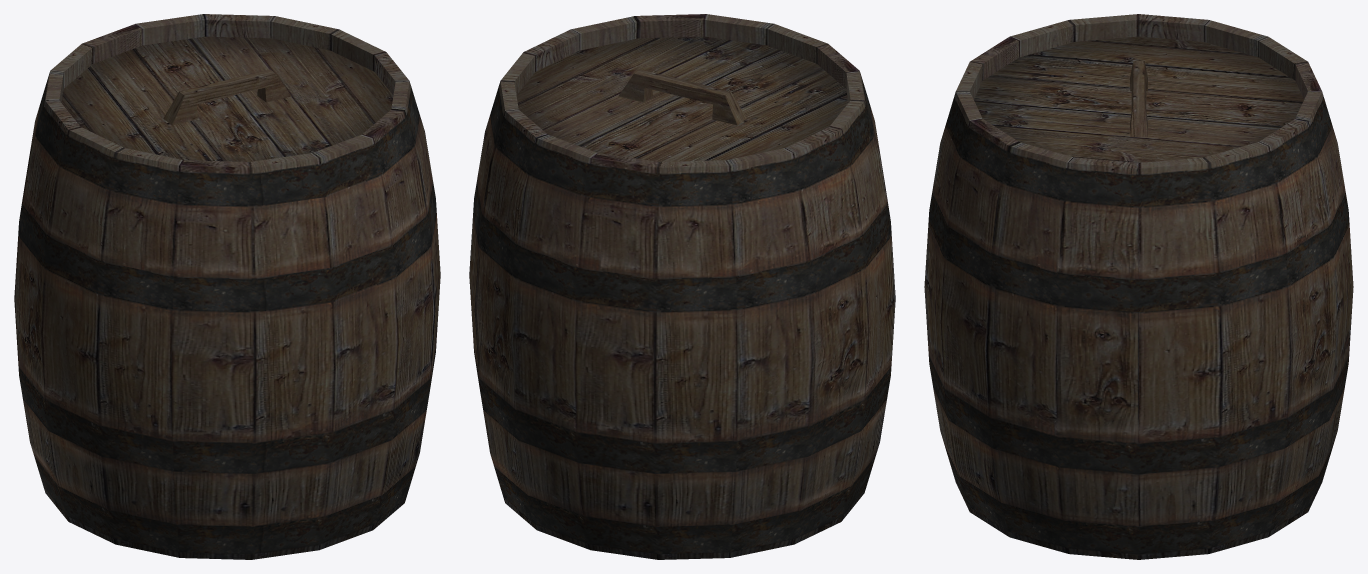
The model's file is Barrel2.fbx.
3 views of the same model, side by side, from view 1: azimuth 30°, elevation 25°; view 2: azimuth 150°, elevation 25°; view 3: azimuth 270°, elevation 25° (orthographic).
Visible parts, largest first — view 1: beczka; view 2: beczka; view 3: beczka.
Boxes of the visible parts, left/top/right/bottom form: beczka: left=14, top=14, right=440, bottom=559; beczka: left=469, top=14, right=895, bottom=559; beczka: left=924, top=14, right=1353, bottom=559.
Bounding box in the file's own units: 50.11 × 51.47 × 50.11.
